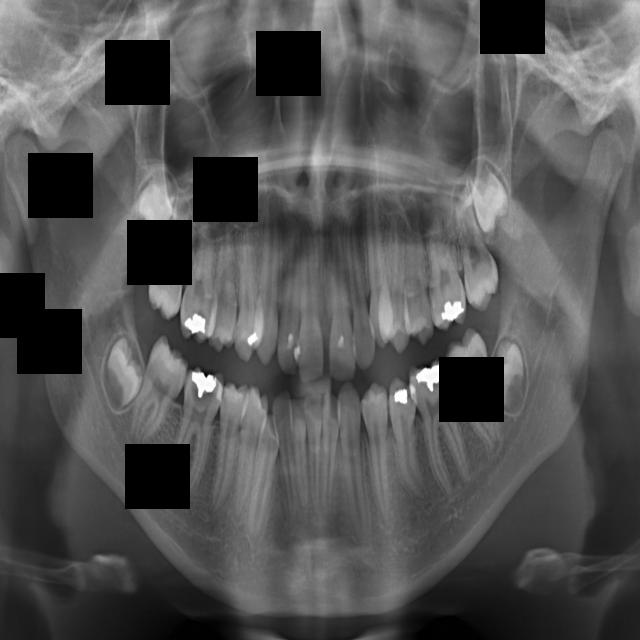3M ESPE Implant: (124, 163, 185, 245)
AGS Medikal Implant: (339, 201, 378, 370)
AMerOss Implant: (362, 169, 390, 351)
Amalgam filling: (379, 205, 412, 355)
Anthogyr Implant: (398, 200, 435, 346)
Bicon Implant: (425, 203, 467, 331)
BioHorizons Implant: (449, 175, 503, 314)
BioLife Implant: (464, 154, 517, 242)
Biomet 3i Implant: (486, 337, 529, 415)
Blue Sky Bio Implant: (495, 433, 499, 444)
Camlog Implant: (405, 357, 480, 500)
Caries: (144, 185, 194, 323)
Composite filling: (382, 374, 433, 505)
Cowellmedi Implant: (361, 380, 392, 534)
Crown: (335, 381, 373, 552)
DENTSPLY Implant: (317, 391, 340, 519)
Dentatus Implant: (305, 393, 321, 517)
Dentis Implant: (289, 394, 314, 510)
Dentium Implant: (270, 388, 300, 526)
Euroteknika Implant: (243, 414, 284, 540)
Filling: (224, 386, 271, 528)
Frontier Implant: (206, 380, 249, 522)
Hiossen Implant: (177, 199, 223, 345)
Implant: (121, 331, 197, 455)
Implant Direct: (163, 363, 226, 505)
Keystone Dental Implant: (99, 335, 148, 414)
MIS Implant: (208, 217, 245, 354)
Mandible: (233, 219, 261, 363)
Maxilla: (253, 187, 287, 368)
Megagen Implant: (277, 216, 300, 376)
Neodent Implant: (299, 216, 324, 384)
Neoss Implant: (329, 215, 355, 382)
